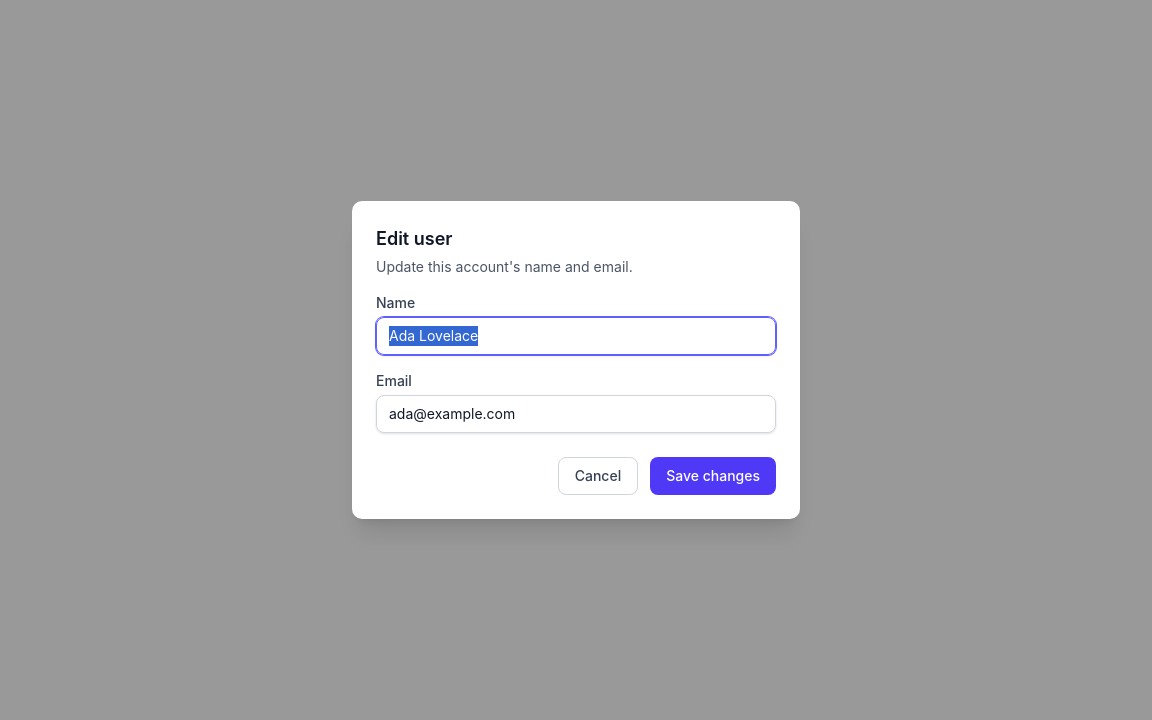
EditUserModal › does not submit and shows validation errors for invalid input
Step 1. Clear the field labelled "Name" → (576, 336), box x1=376 y1=317 x2=776 y2=355
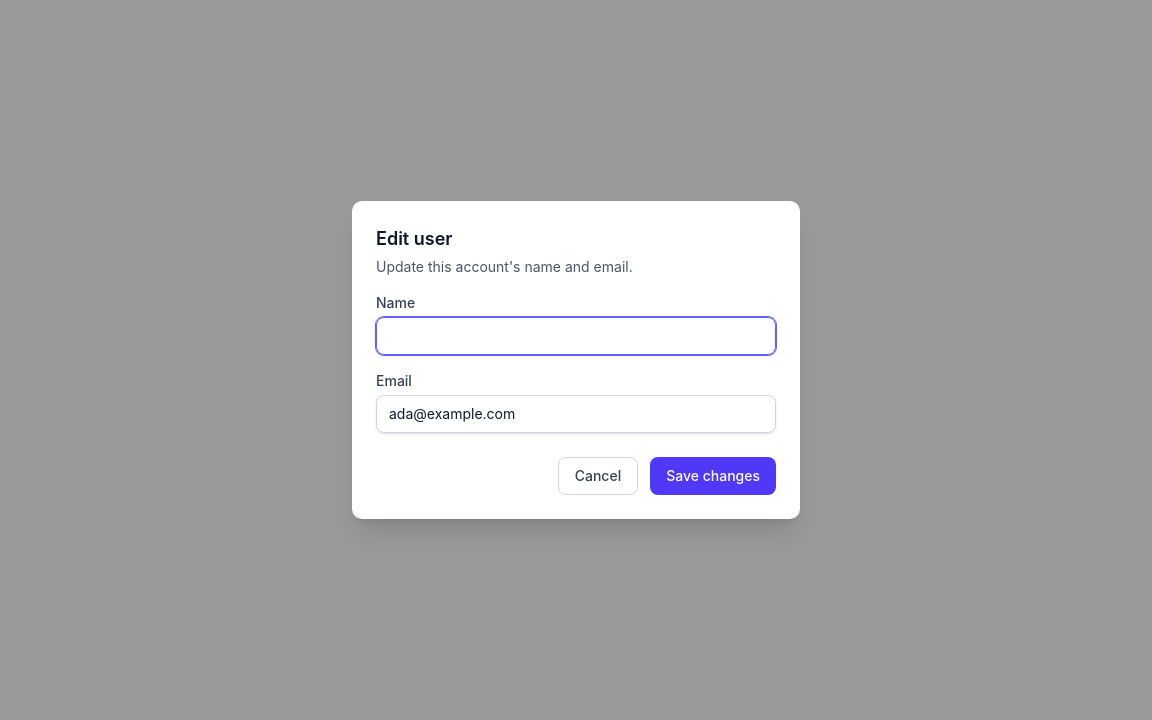
Step 2. Replace the text in the field labelled "Email" with "not-an-email" → (576, 414), box x1=376 y1=395 x2=776 y2=433
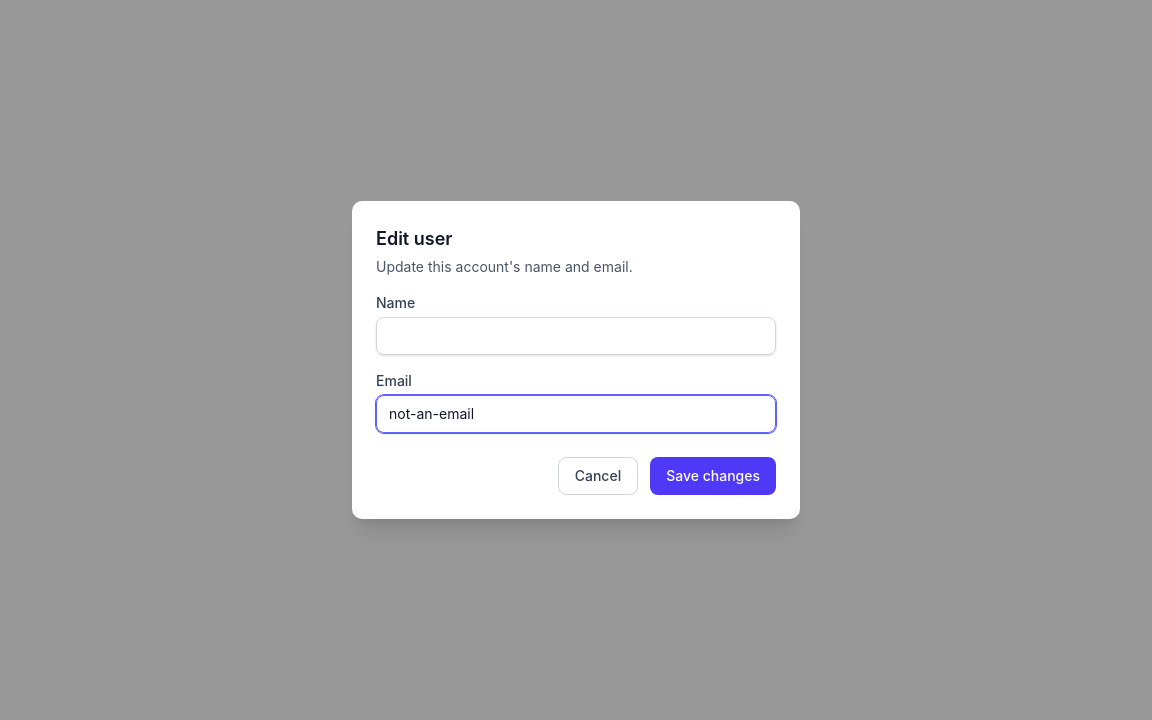
Step 3. Click the button "Save changes" → (713, 476), box x1=650 y1=457 x2=776 y2=495
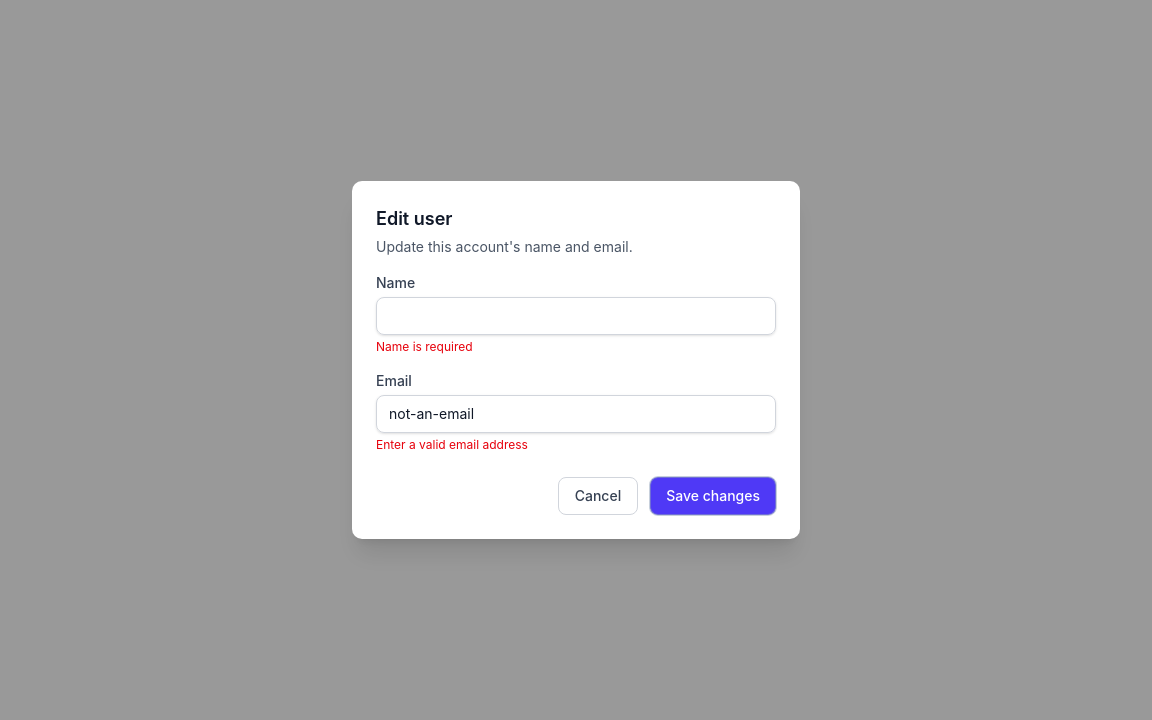
Expected: the text "Name is required" is shown, x1=376 y1=339 x2=473 y2=354
Expected: the text "Enter a valid email address" is shown, x1=376 y1=437 x2=528 y2=452
